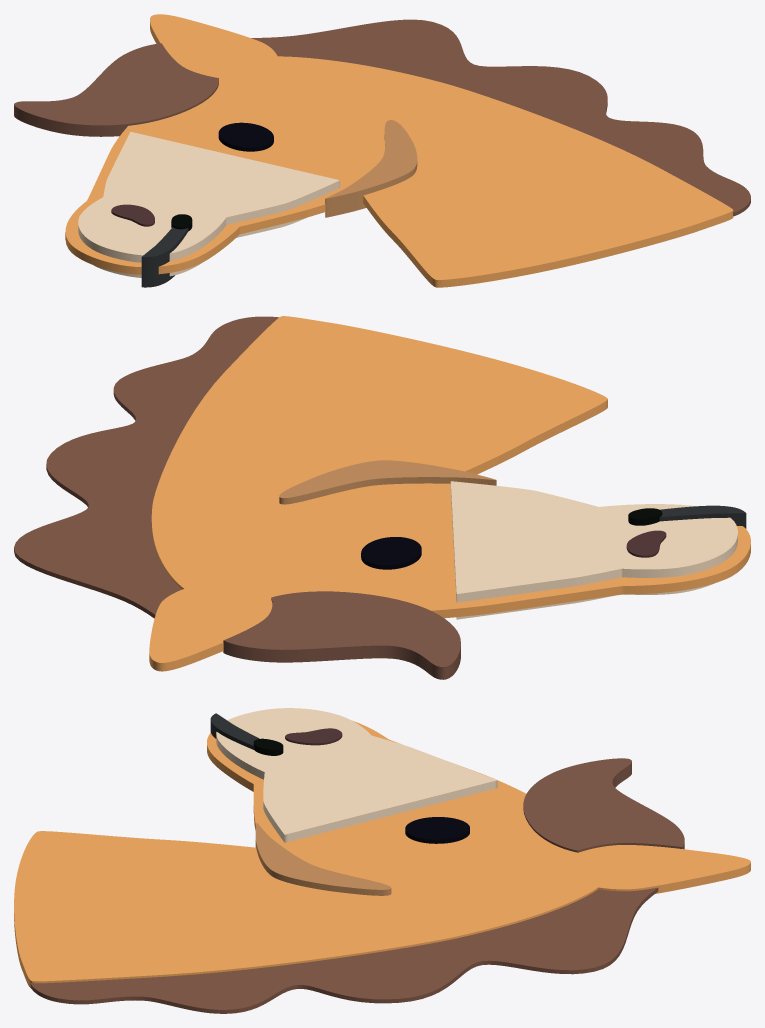
Rendered from emoji_u1f434.glb.
The picture shows the model from 3 angles, top to bottom: view 1: azimuth 30°, elevation 25°; view 2: azimuth 150°, elevation 25°; view 3: azimuth 270°, elevation 25°; orthographic projection. The views are drawn at different scales.
Visible parts, largest first — view 1: emoji_u1f434; view 2: emoji_u1f434; view 3: emoji_u1f434.
Boxes of the visible parts, left/top/right/bottom form: emoji_u1f434: left=14, top=14, right=750, bottom=287; emoji_u1f434: left=14, top=316, right=750, bottom=679; emoji_u1f434: left=14, top=708, right=750, bottom=1013.
Bounding box in the file's own units: 0.0322 × 0.0018 × 0.0337.
